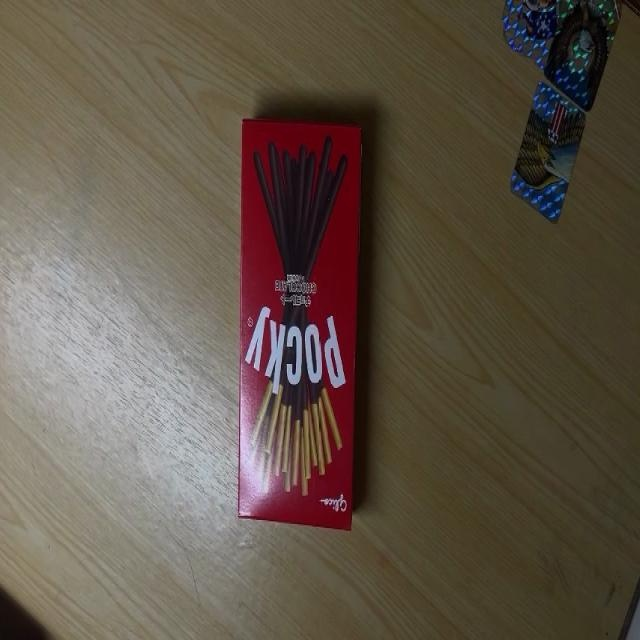Pocky: (238, 118, 364, 532)
